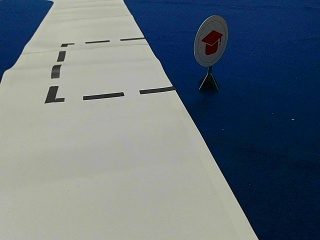school: (193, 15, 228, 68)
